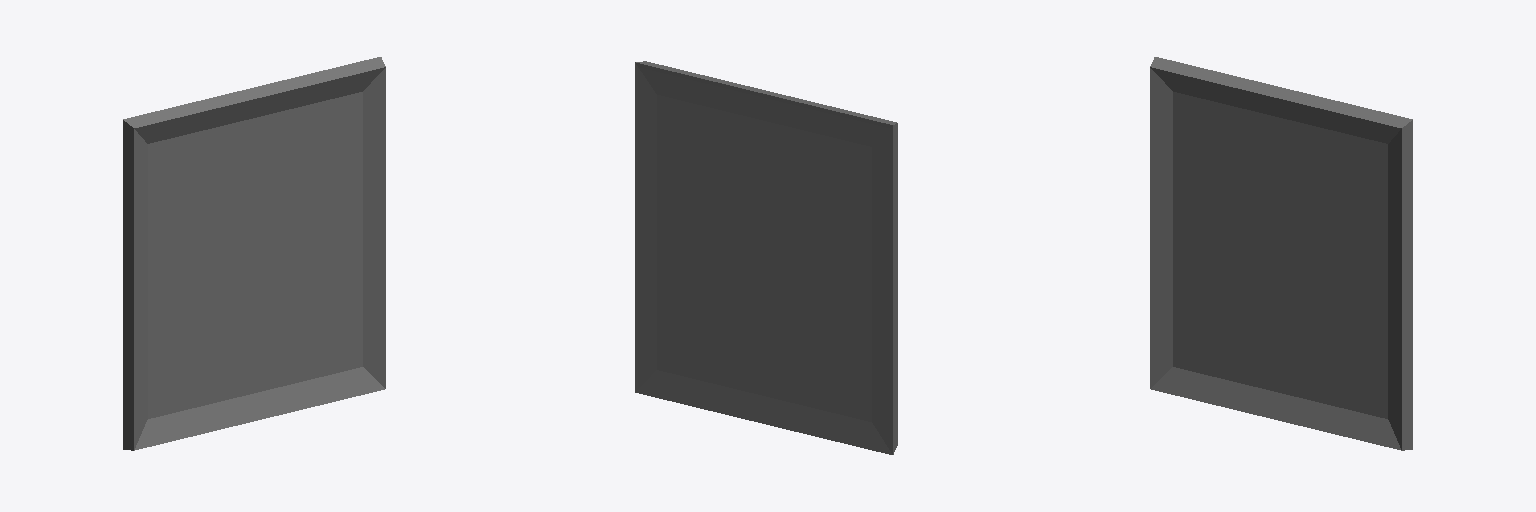
The model's file is obj_Quadro_Blocado.obj.
3 renders of one model, left to right at view 1: azimuth 30°, elevation 25°; view 2: azimuth 150°, elevation 25°; view 3: azimuth 330°, elevation 25°, orthographic.
Parts seen in each view (by area): view 1: pCube1; view 2: pCube1; view 3: pCube1.
Boxes of the visible parts, x1,y1,x2,y2 form: pCube1: [123, 57, 385, 450]; pCube1: [635, 61, 897, 454]; pCube1: [1150, 57, 1412, 450].
Size of the model in its own units: 53.97 by 65.97 by 2.91.